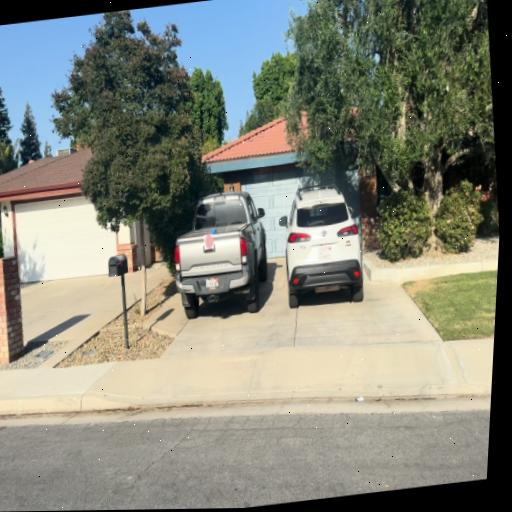bullseye: (205, 233, 214, 249)
